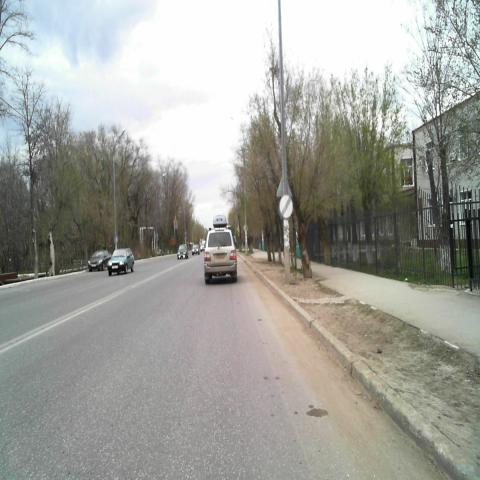3_31: (279, 193, 293, 218)
